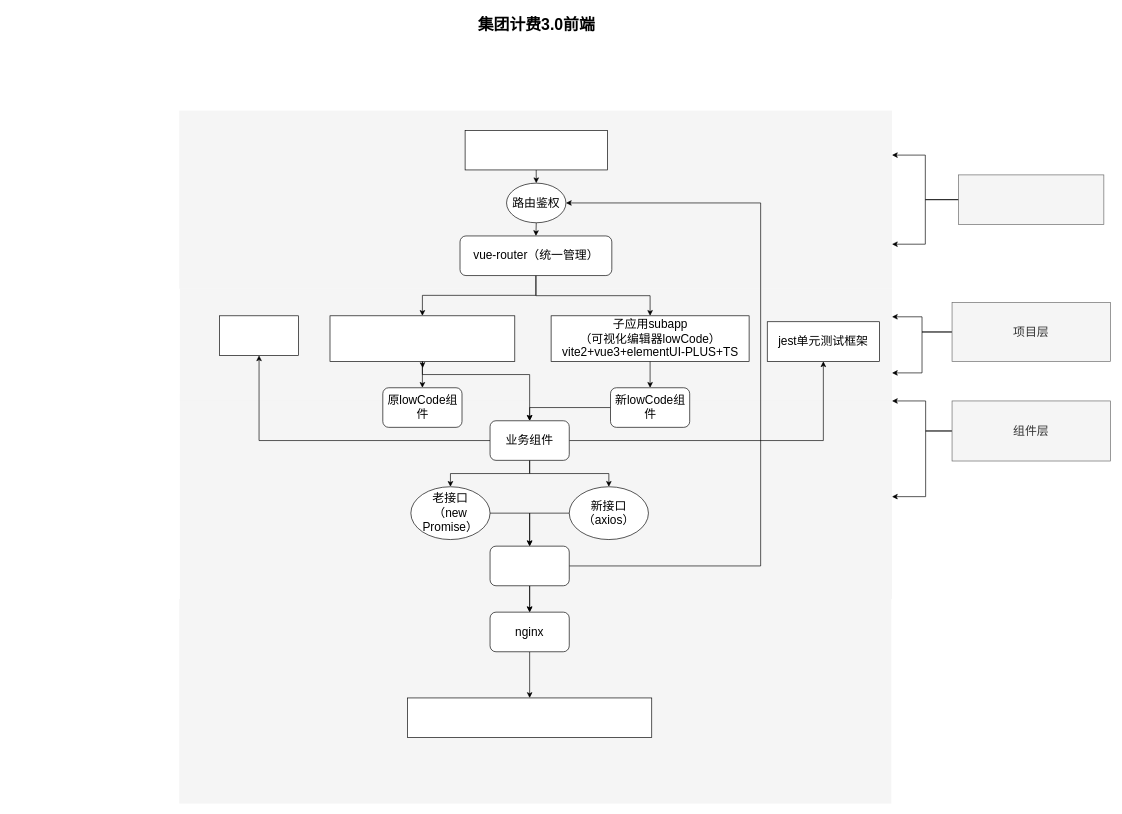
Some shapes in this 1122 by 814 pixel diagram are drawn without their labels. Here are the shapes that lost their labels. From the top down, the box of each, then its label:
(464, 130, 607, 170): qiankun基座 node统一打包命令
(958, 174, 1104, 224): 微服务框架
(219, 315, 299, 355): 前端监控系统
(329, 315, 515, 361): 主应用main， （原业务系统） webpack5+vue2.6+elementUI+js
(489, 545, 569, 586): 中间层 （koa/nuxt）
(407, 697, 652, 738): 后端
